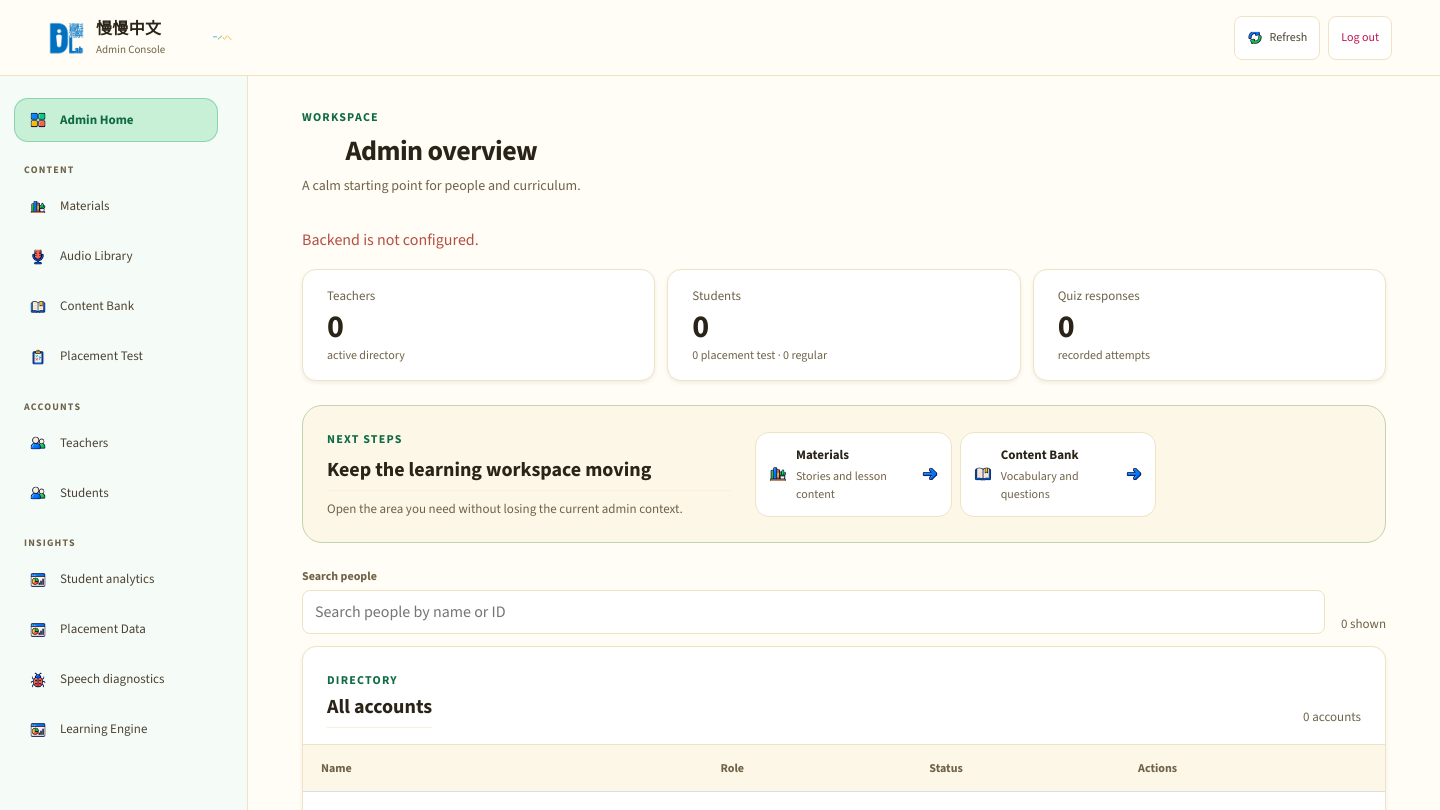
Scenario: admin-only diagnostic navigation › keeps story materials in the admin navigation
The image size is (1440, 810).
Click the button "Materials": point(116, 206) [14,184,218,228]
(page scrolled)
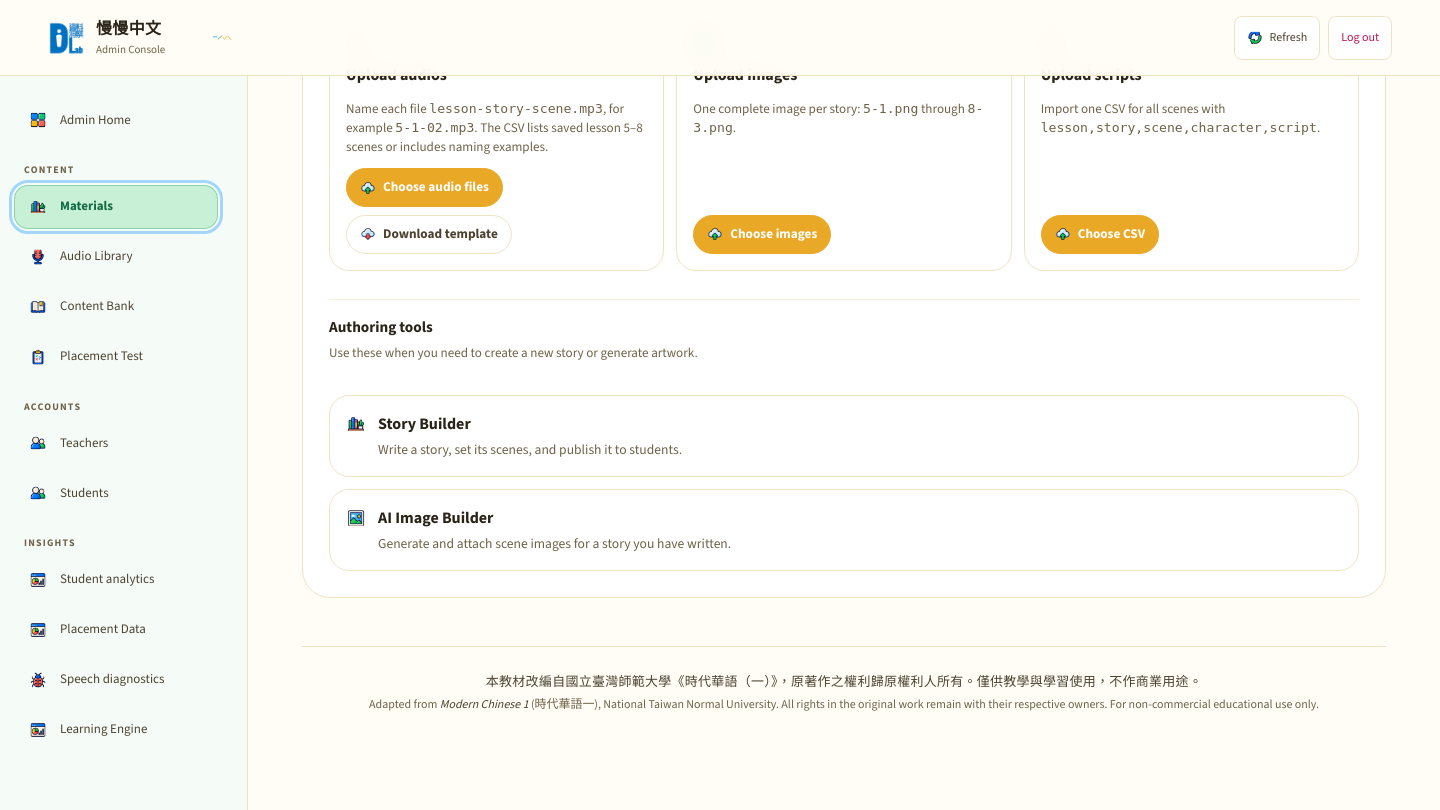
Expected: the button "Story Builder" is shown, [329,396,1359,477]
Expected: the button "AI Image Builder" is shown, [329,489,1359,571]
